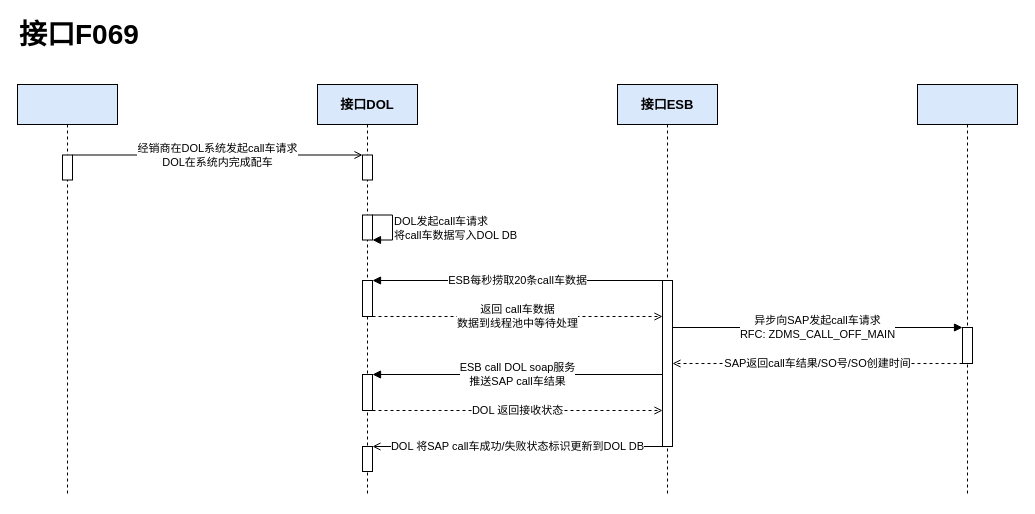
The diagram is 1035 pixels wide and 514 high, and some of its shapes have lost their labels. Here are the shapes that lost their labels. From the top down, the box of each, then its label:
(16, 84, 118, 496): 接口经销商
(916, 84, 1018, 496): 接口SAP
